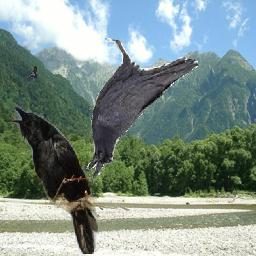Crow: (86, 39, 198, 182), (11, 104, 100, 255), (25, 64, 37, 78)
